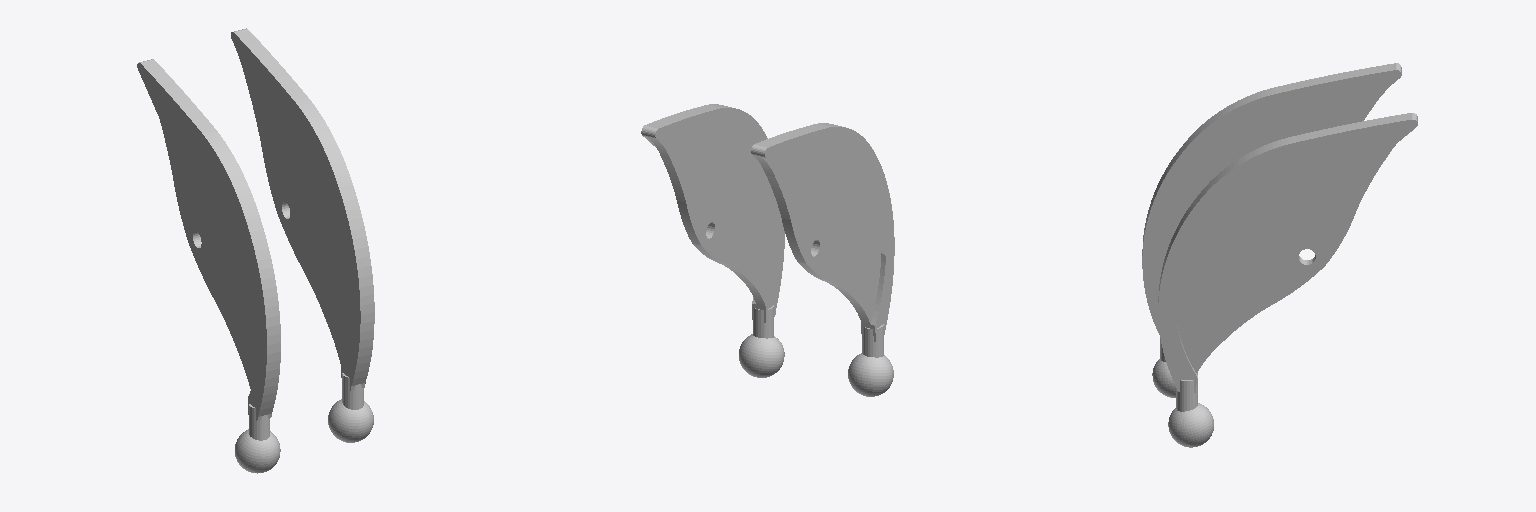
File: AC_EAR_v001.obj
3 renders of one model, left to right at view 1: azimuth 30°, elevation 25°; view 2: azimuth 150°, elevation 25°; view 3: azimuth 270°, elevation 25°, orthographic.
Visible parts, largest first — view 1: Mesh6 _____321_2 Model, Mesh3 _____321_1 Model, Mesh1 _____321_1 Model, Mesh4 _____321_2 Model, Mesh5 _____321_2 Model, Mesh2 _____321_1 Model; view 2: Mesh3 _____321_1 Model, Mesh6 _____321_2 Model, Mesh4 _____321_2 Model, Mesh1 _____321_1 Model, Mesh2 _____321_1 Model, Mesh5 _____321_2 Model; view 3: Mesh6 _____321_2 Model, Mesh3 _____321_1 Model, Mesh4 _____321_2 Model, Mesh1 _____321_1 Model, Mesh5 _____321_2 Model.
Part boxes in pixels (left/top/right/bottom): Mesh6 _____321_2 Model: left=231, top=28, right=374, bottom=390; Mesh3 _____321_1 Model: left=137, top=59, right=280, bottom=421; Mesh1 _____321_1 Model: left=235, top=429, right=280, bottom=473; Mesh4 _____321_2 Model: left=328, top=399, right=373, bottom=442; Mesh5 _____321_2 Model: left=342, top=373, right=363, bottom=409; Mesh2 _____321_1 Model: left=249, top=404, right=269, bottom=440; Mesh3 _____321_1 Model: left=751, top=123, right=894, bottom=341; Mesh6 _____321_2 Model: left=641, top=104, right=784, bottom=322; Mesh4 _____321_2 Model: left=739, top=334, right=784, bottom=377; Mesh1 _____321_1 Model: left=848, top=353, right=893, bottom=396; Mesh2 _____321_1 Model: left=862, top=324, right=883, bottom=357; Mesh5 _____321_2 Model: left=753, top=305, right=773, bottom=338; Mesh6 _____321_2 Model: left=1158, top=113, right=1417, bottom=392; Mesh3 _____321_1 Model: left=1142, top=63, right=1401, bottom=334; Mesh4 _____321_2 Model: left=1168, top=403, right=1213, bottom=447; Mesh1 _____321_1 Model: left=1152, top=359, right=1197, bottom=397; Mesh5 _____321_2 Model: left=1176, top=375, right=1197, bottom=411.
Size of the model in its own units: 30.04 by 66.97 by 50.73.